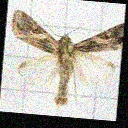Spodoptera litura: (6, 13, 120, 107)
